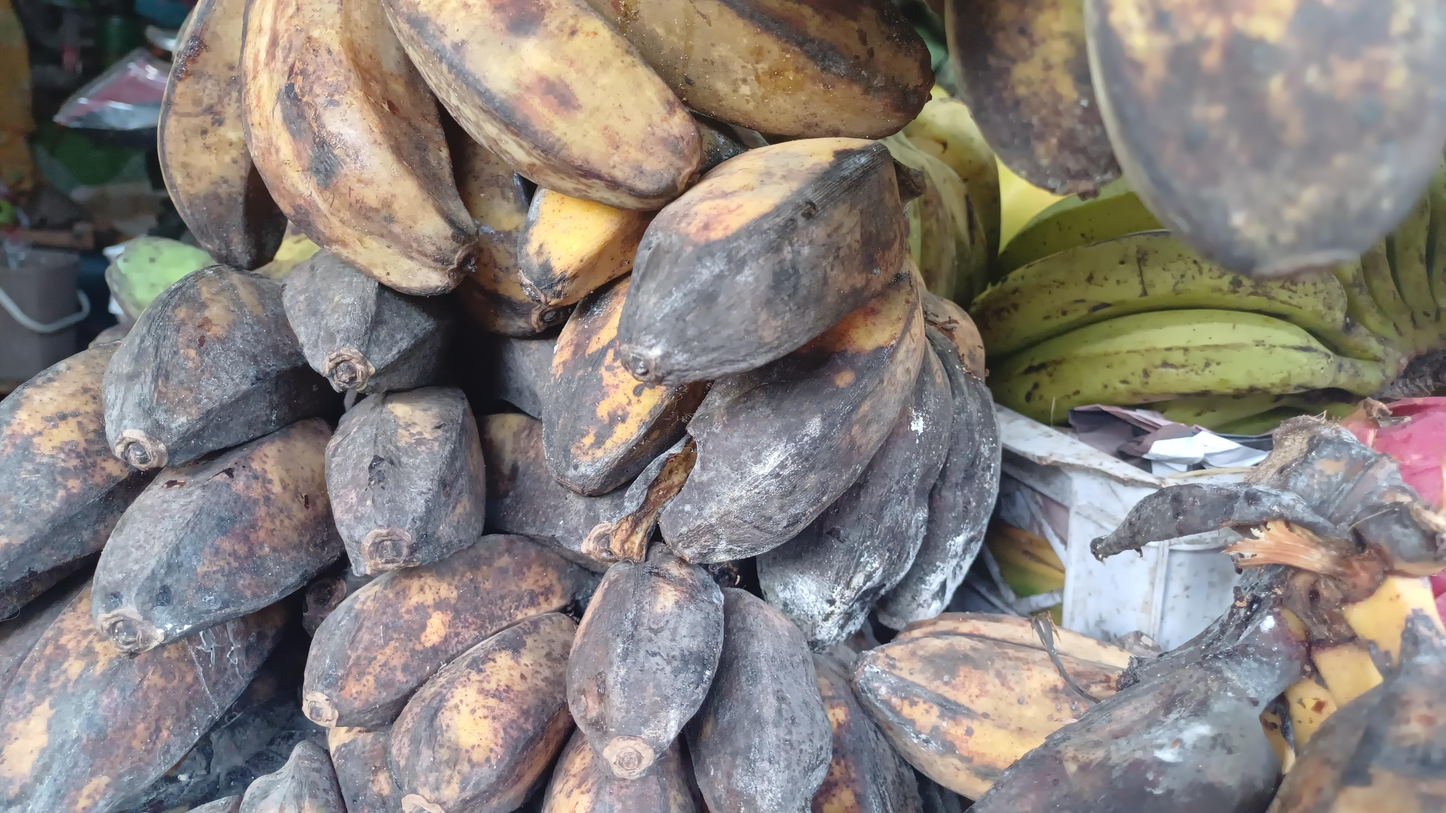overripe: (0, 252, 636, 813), (518, 123, 1001, 650), (305, 535, 920, 813), (946, 0, 1446, 277), (854, 613, 1446, 813)
ripe: (156, 0, 935, 339)
